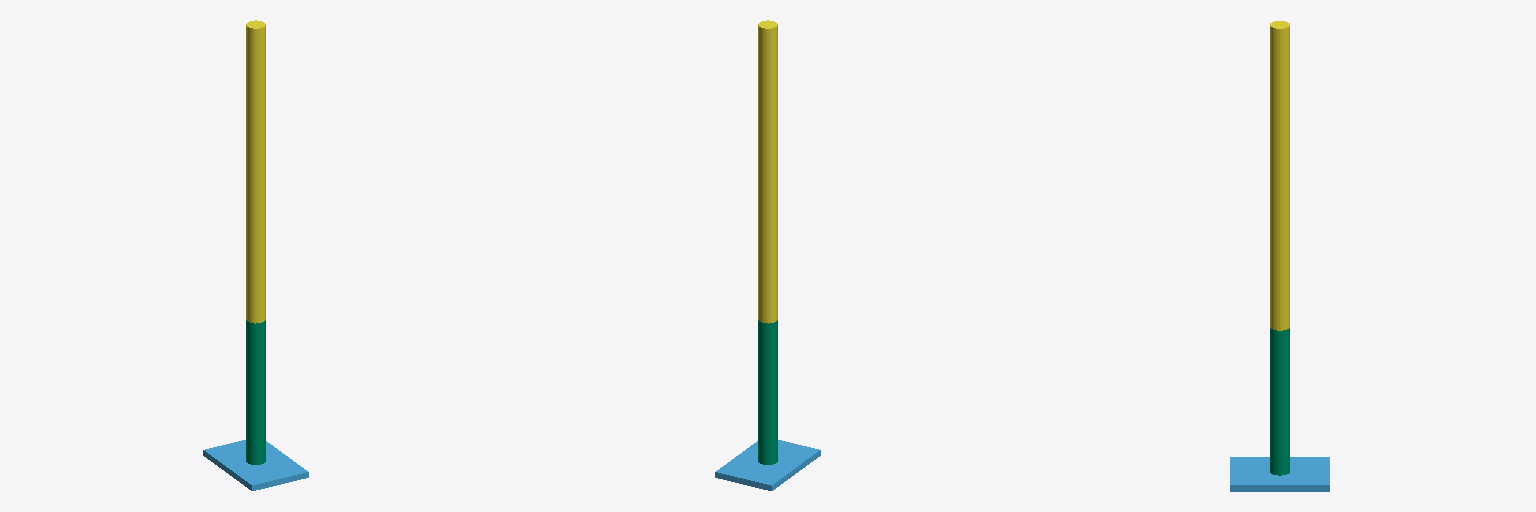
robot.urdf — LISM_Arm:
<?xml version="1.0" ?>
<robot name="LISM_Arm">
     <!--base of fixing arm-->
    <link name="world"/>

    <joint name="worldTobase" type="fixed">
        <parent link="world"/>
        <child link="base"/>
        <origin rpy="0 0 0" xyz="0.0 0.0 0.0"/>
    </joint>
    
    <link name="base">
        <visual>
            <origin rpy="0.0 0.0 0.0" xyz="0 0 0.01"/>
            <geometry>
                <box size = "0.2 0.3 0.02"/>
            </geometry>
        </visual>
    </link>

    <joint name="BaseToLink" type="revolute">
        <axis xyz="-1 0 0"/>
        <origin rpy="0 0 0" xyz="0.0 0.0 0.0"/>
        <parent link="base"/>
        <child link="link1"/>
    </joint>

    <link name="link1">
        <visual>
            <origin rpy="0.0 0.0 0.0" xyz="0 0 0.25"/>
            <geometry>
                <cylinder length="0.5" radius="0.03"/>
            </geometry>
        </visual>
        <inertial>
            <mass value="0.5"/>
            <origin rpy="0.0 0.0 0.0" xyz="0 0 0.25"/>
            <inertia ixx="0.0104167" ixy="0" ixz="0.0" iyy="0.0104167" iyz="0" izz="0.000225"/>
        </inertial>
    </link>

    <joint name="l12l2" type="revolute">
        <axis xyz="-1 0 0"/>
        <origin rpy="0 0 0" xyz="0.0 0.0 0.5"/>
        <parent link="link1"/>
        <child link="link2"/>
    </joint>

    <link name="link2">
        <visual>
            <origin rpy="0.0 0.0 0.0" xyz="0 0 0.5"/>
            <geometry>
                <cylinder length="1.0" radius="0.03"/>
            </geometry>
        </visual>
        <inertial>
            <mass value="0.2"/>
            <origin rpy="0.0 0.0 0.0" xyz="0 0 0.5"/>
            <inertia ixx="0.0167" ixy="0" ixz="0.0" iyy="0.0015" iyz="0" izz="0.000225"/>
        </inertial>
    </link>

</robot>

--- Render facts (derived) ---
Views: 3 orthographic renders of the robot side by side, from view 1: azimuth 30°, elevation 25°; view 2: azimuth 150°, elevation 25°; view 3: azimuth 270°, elevation 25°.
Model LISM_Arm with 4 links and 3 joints (2 revolute, 1 fixed), rooted at world, posed every joint at zero.
Links seen in each view (by area): view 1: link2, link1, base; view 2: link2, link1, base; view 3: link2, base, link1.
Boxes of the visible links, box(x1,y1,x2,y2) form: link2: box(246, 20, 265, 323); link1: box(246, 320, 265, 464); base: box(203, 440, 308, 490); link2: box(758, 20, 777, 323); link1: box(758, 320, 777, 464); base: box(715, 440, 820, 490); link2: box(1270, 21, 1289, 330); base: box(1230, 457, 1329, 491); link1: box(1270, 328, 1289, 475).
Bounding box of the posed robot: 0.2 × 0.3 × 1.5 m (x, y, z).
Geometry: primitives only (box / cylinder / sphere), no mesh files.
